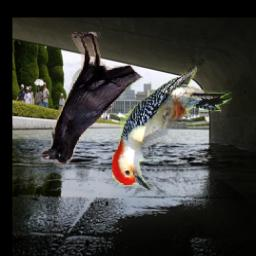Crow: (41, 32, 144, 168)
Woodpecker: (112, 65, 232, 190)
